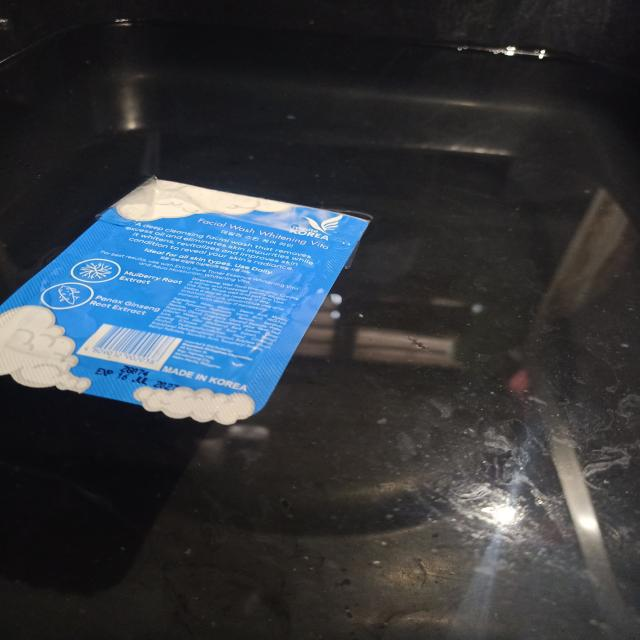Plastic Wrapper: (0, 178, 372, 424)
